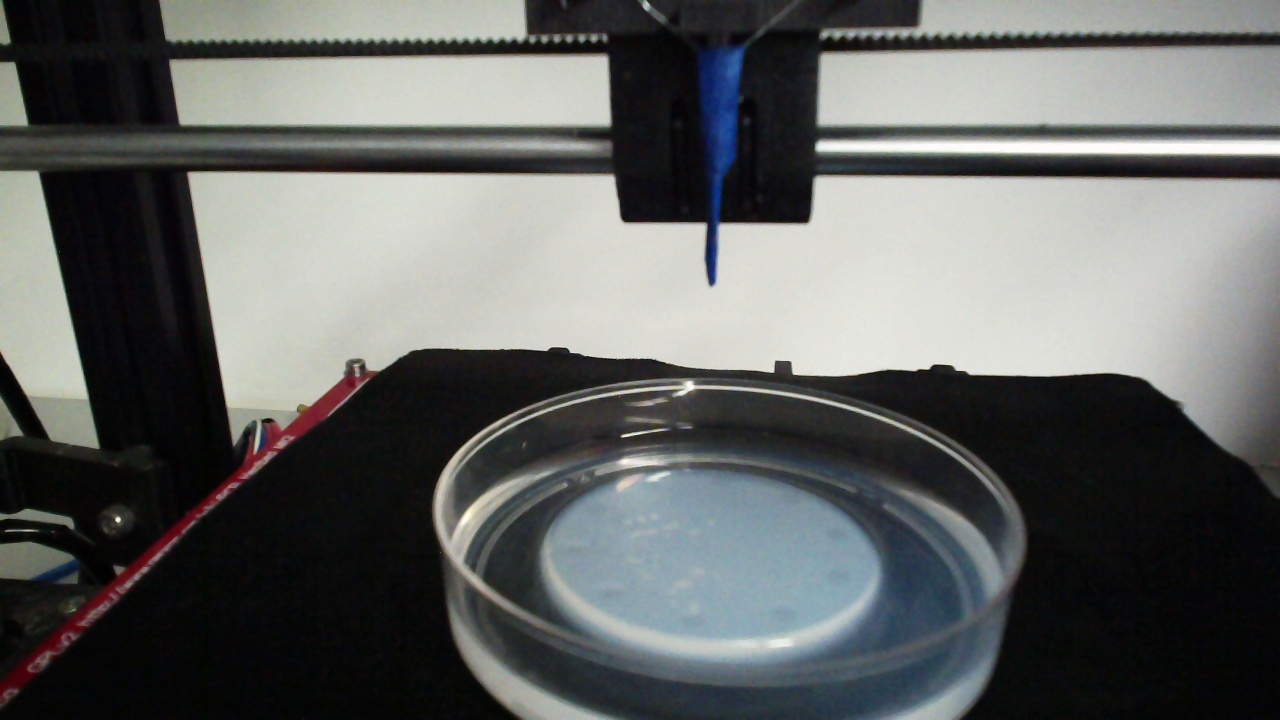groove: (595, 579, 625, 601), (562, 539, 592, 559), (680, 610, 708, 631), (771, 603, 800, 623), (581, 497, 609, 517), (776, 489, 804, 507), (711, 470, 736, 490), (823, 526, 851, 543), (826, 568, 853, 585)
needle: (701, 56, 741, 287)
